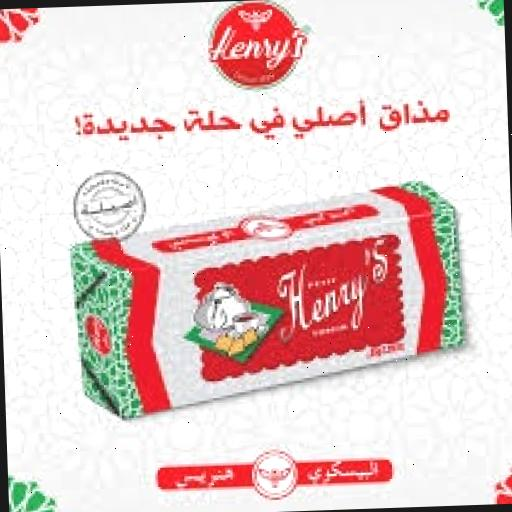golden: (30, 131, 512, 466)
